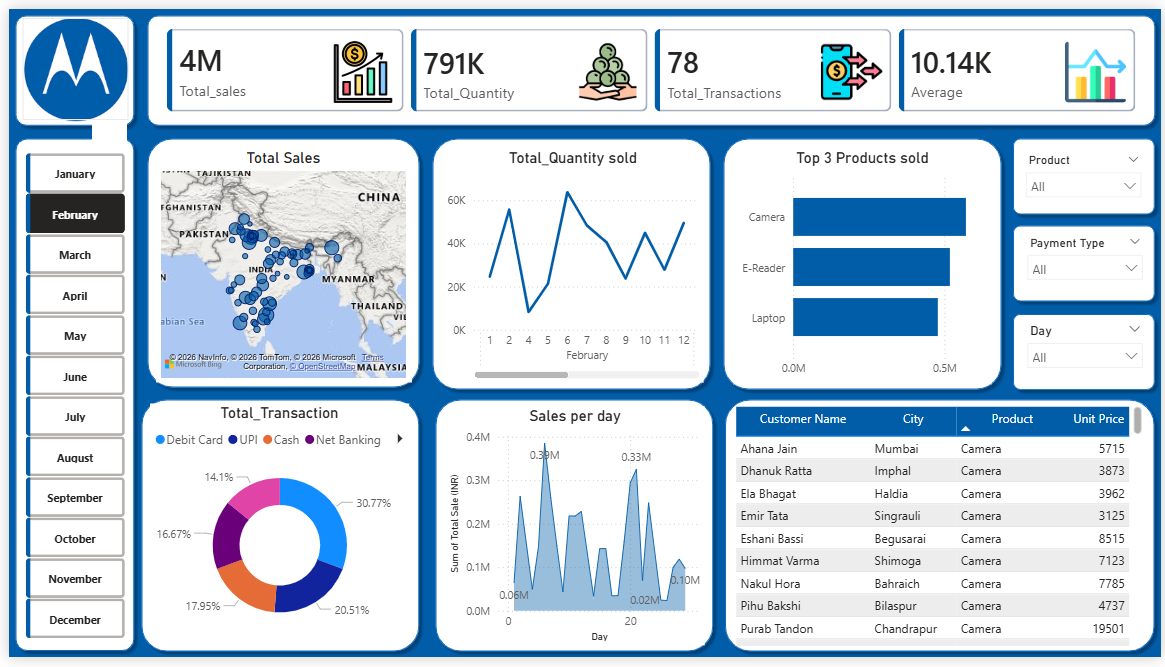

The page's visual inventory and layout, read from the dashboard file:
{"tool":"powerbi","page":{"name":"Page 1","canvas":[1280,720],"ordinal":0},"visuals":[{"type":"shape","box":[0,0,146.3,136.8],"z":0},{"type":"shape","box":[0,136.8,146.3,583.8],"z":1000},{"type":"advancedSlicerVisual","fields":{"Values":["Sales_Data.Sales Date.Variation.Date Hierarchy.Month"]},"box":[12.7,154.3,120.9,550.4],"z":2000},{"type":"shape","box":[146.3,0,1134.1,136.8],"z":3000},{"type":"cardVisual","fields":{"Data":["Sales_Data.Total_sales","Sales_Data.Total_Quantity","Sales_Data.Total_Transactions","Sales_Data.Average"]},"box":[163.8,9.5,1103.9,116.1],"z":4000},{"type":"shape","box":[146.3,136.8,316.5,291.1],"z":5000},{"type":"shape","box":[463.3,136.7,323.3,293.3],"z":6000},{"type":"map","title":"Total Sales","fields":{"Size":["Sum(Sales_Data.Total Sale (INR))"],"Category":["Sales_Data.City"]},"box":[163.8,154.3,283.1,259.3],"z":7000},{"type":"lineChart","title":"Total_Quantity sold","fields":{"Y":["Sales_Data.Total_Quantity"],"Category":["Sales_Data.Sales Date.Variation.Date Hierarchy.Month","Sales_Data.Sales Date.Variation.Date Hierarchy.Day"]},"box":[481.7,155,290,260],"z":8000},{"type":"shape","box":[786.7,136.7,323.3,293.3],"z":9000},{"type":"clusteredBarChart","title":"Top 3 Products sold","fields":{"Y":["Sum(Sales_Data.Total Sale (INR))"],"Category":["Sales_Data.Product"]},"box":[805,155,286.7,261.7],"z":10000},{"type":"shape","box":[140,426.3,322.9,294.3],"z":11000},{"type":"donutChart","title":"Total_Transaction","fields":{"Category":["Sales_Data.Payment Type"],"Y":["Sales_Data.Total_Transactions"]},"box":[157.5,439,287.9,265.6],"z":12000},{"type":"shape","box":[788.9,426.3,491.5,294.3],"z":13000},{"type":"tableEx","title":"Total_Transaction","fields":{"Values":["Sales_Data.Customer Name","Sales_Data.City","Sales_Data.Product","Sales_Data.Unit Price (INR)"]},"box":[806.4,442.2,451.7,265.6],"z":14000},{"type":"shape","box":[466,426.3,322.9,294.3],"z":15000},{"type":"areaChart","title":"Sales per day","fields":{"Category":["Sales_Data.Sales Date.Variation.Date Hierarchy.Day"],"Y":["Sum(Sales_Data.Total Sale (INR))"]},"box":[485.1,442.2,287.9,265.6],"z":16000},{"type":"shape","box":[1108.7,136.8,171.8,98.6],"z":17000},{"type":"slicer","fields":{"Values":["Sales_Data.Product"]},"box":[1119.8,154.3,147.9,65.2],"z":18000},{"type":"shape","box":[1108.7,330.8,171.8,98.6],"z":19000},{"type":"shape","box":[1108.7,233.8,171.8,98.6],"z":20000},{"type":"slicer","fields":{"Values":["Sales_Data.Payment Type"]},"box":[1121.4,246.5,147.9,73.2],"z":21000},{"type":"slicer","fields":{"Values":["Sales_Data.Sales Date.Variation.Date Hierarchy.Day"]},"box":[1121.4,343.6,147.9,73.2],"z":22000},{"type":"image","box":[14.3,9.5,119.3,114.5],"z":23000}]}

Visuals, with their boxes in screenshot pixels (x1, y1, x2, y2), scaled from the page's 1280x720 canvas onto the 1165x667 screenshot:
shape: select_region(0, 0, 133, 127)
shape: select_region(0, 127, 133, 666)
advancedSlicerVisual - Sales_Data.Sales Date.Variation.Date Hierarchy.Month: select_region(12, 143, 122, 653)
shape: select_region(133, 0, 1164, 127)
cardVisual - Sales_Data.Total_sales x Sales_Data.Total_Quantity: select_region(149, 9, 1154, 116)
shape: select_region(133, 127, 421, 396)
shape: select_region(422, 127, 716, 398)
"Total Sales" map: select_region(149, 143, 407, 383)
"Total_Quantity sold" lineChart: select_region(438, 144, 702, 384)
shape: select_region(716, 127, 1010, 398)
"Top 3 Products sold" clusteredBarChart: select_region(733, 144, 994, 386)
shape: select_region(127, 395, 421, 666)
"Total_Transaction" donutChart: select_region(143, 407, 405, 653)
shape: select_region(718, 395, 1164, 666)
"Total_Transaction" tableEx: select_region(734, 410, 1145, 656)
shape: select_region(424, 395, 718, 666)
"Sales per day" areaChart: select_region(442, 410, 704, 656)
shape: select_region(1009, 127, 1164, 218)
slicer - Sales_Data.Product: select_region(1019, 143, 1154, 203)
shape: select_region(1009, 306, 1164, 398)
shape: select_region(1009, 217, 1164, 308)
slicer - Sales_Data.Payment Type: select_region(1021, 228, 1155, 296)
slicer - Sales_Data.Sales Date.Variation.Date Hierarchy.Day: select_region(1021, 318, 1155, 386)
image: select_region(13, 9, 122, 115)
